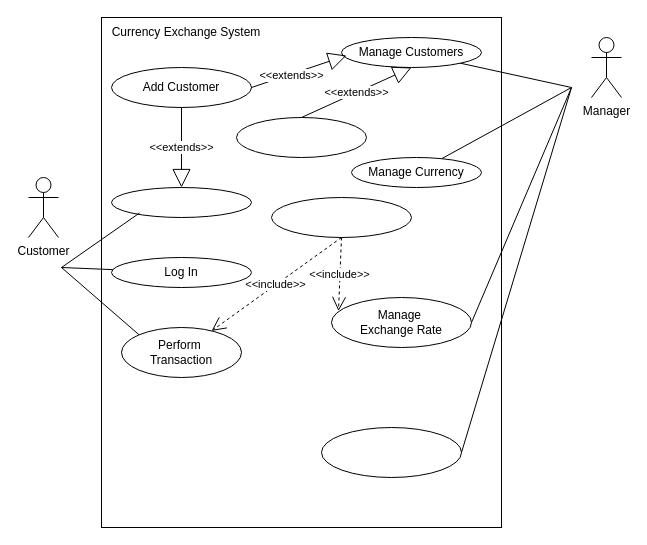
Some shapes in this 647 by 545 pixel diagram are drawn without their labels. The shapes that lost their labels are listed below. From the top down, each one's box as (x1, y1, x2, y2) in pixels, then its label:
(236, 116, 366, 158): Remove Customer
(110, 186, 252, 218): Sign Up
(270, 196, 412, 238): Fetch Exchange Rate
(320, 426, 462, 478): Manage Transactions
